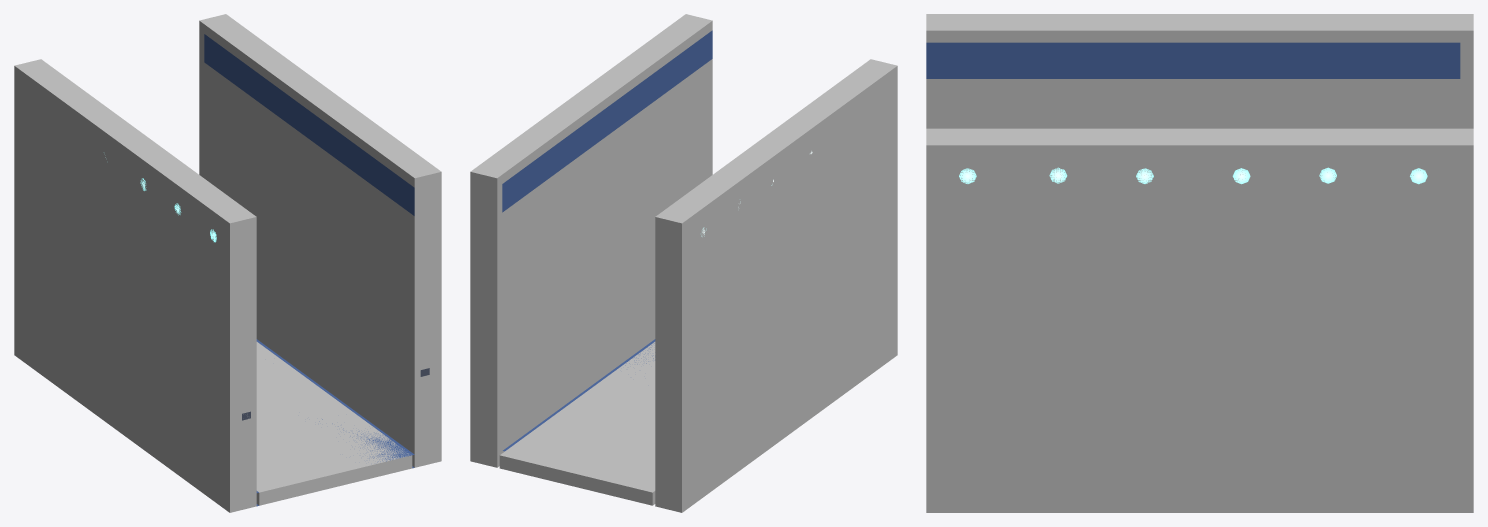
The model's file is SM_Bridge_Middle.fbx.
3 renders of one model, left to right at view 1: azimuth 30°, elevation 25°; view 2: azimuth 150°, elevation 25°; view 3: azimuth 270°, elevation 25°, orthographic. The views are drawn at different scales.
Visible parts, largest first — view 1: SM_Bridge_Middle_ConvexHulls, SM_Bridge_Middle; view 2: SM_Bridge_Middle_ConvexHulls, SM_Bridge_Middle; view 3: SM_Bridge_Middle_ConvexHulls, SM_Bridge_Middle.
Boxes of the visible parts, box(x1,y1,x2,y2) form: SM_Bridge_Middle_ConvexHulls: box(14, 14, 441, 512); SM_Bridge_Middle: box(105, 34, 429, 506); SM_Bridge_Middle_ConvexHulls: box(470, 14, 897, 512); SM_Bridge_Middle: box(502, 30, 812, 451); SM_Bridge_Middle_ConvexHulls: box(926, 14, 1473, 512); SM_Bridge_Middle: box(926, 42, 1460, 184).
Bounding box in the file's own units: 233 × 410 × 304.
Materials: 2 (1 with a texture image).
